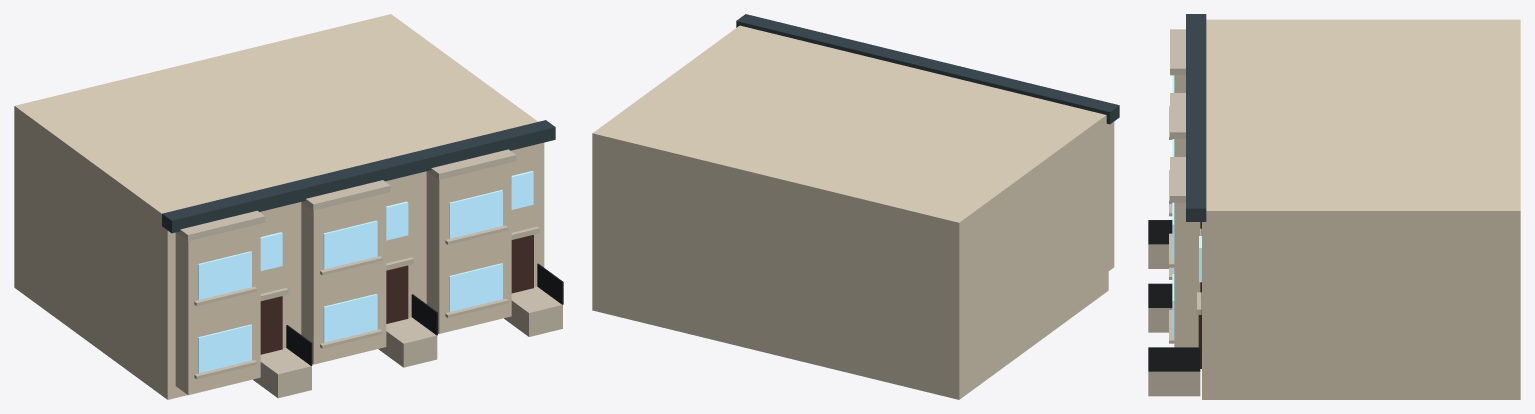
The model's file is town_mw_rowhouse.glb.
3 renders of one model, left to right at view 1: azimuth 30°, elevation 25°; view 2: azimuth 150°, elevation 25°; view 3: azimuth 270°, elevation 25°, orthographic. The views are drawn at different scales.
Visible parts, largest first — view 1: TownMwRowhouse_body; view 2: TownMwRowhouse_body; view 3: TownMwRowhouse_body.
Boxes of the visible parts, x1,y1,x2,y2 form: TownMwRowhouse_body: (14,14,563,399); TownMwRowhouse_body: (592,14,1119,399); TownMwRowhouse_body: (1148,14,1520,399).
Size of the model in its own units: 15.9 by 7.35 by 12.85.
